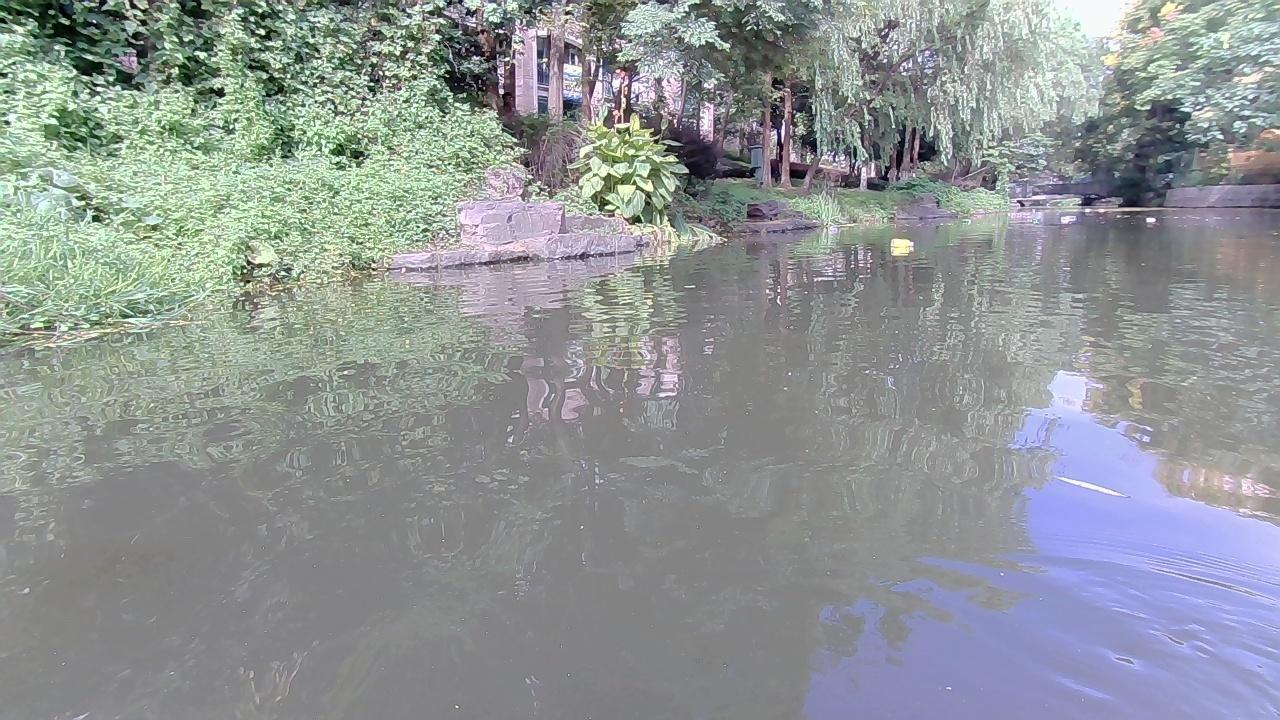bottle: (885, 238, 919, 254), (1057, 215, 1076, 225), (1140, 214, 1157, 223), (957, 218, 974, 225), (1029, 218, 1040, 226)
